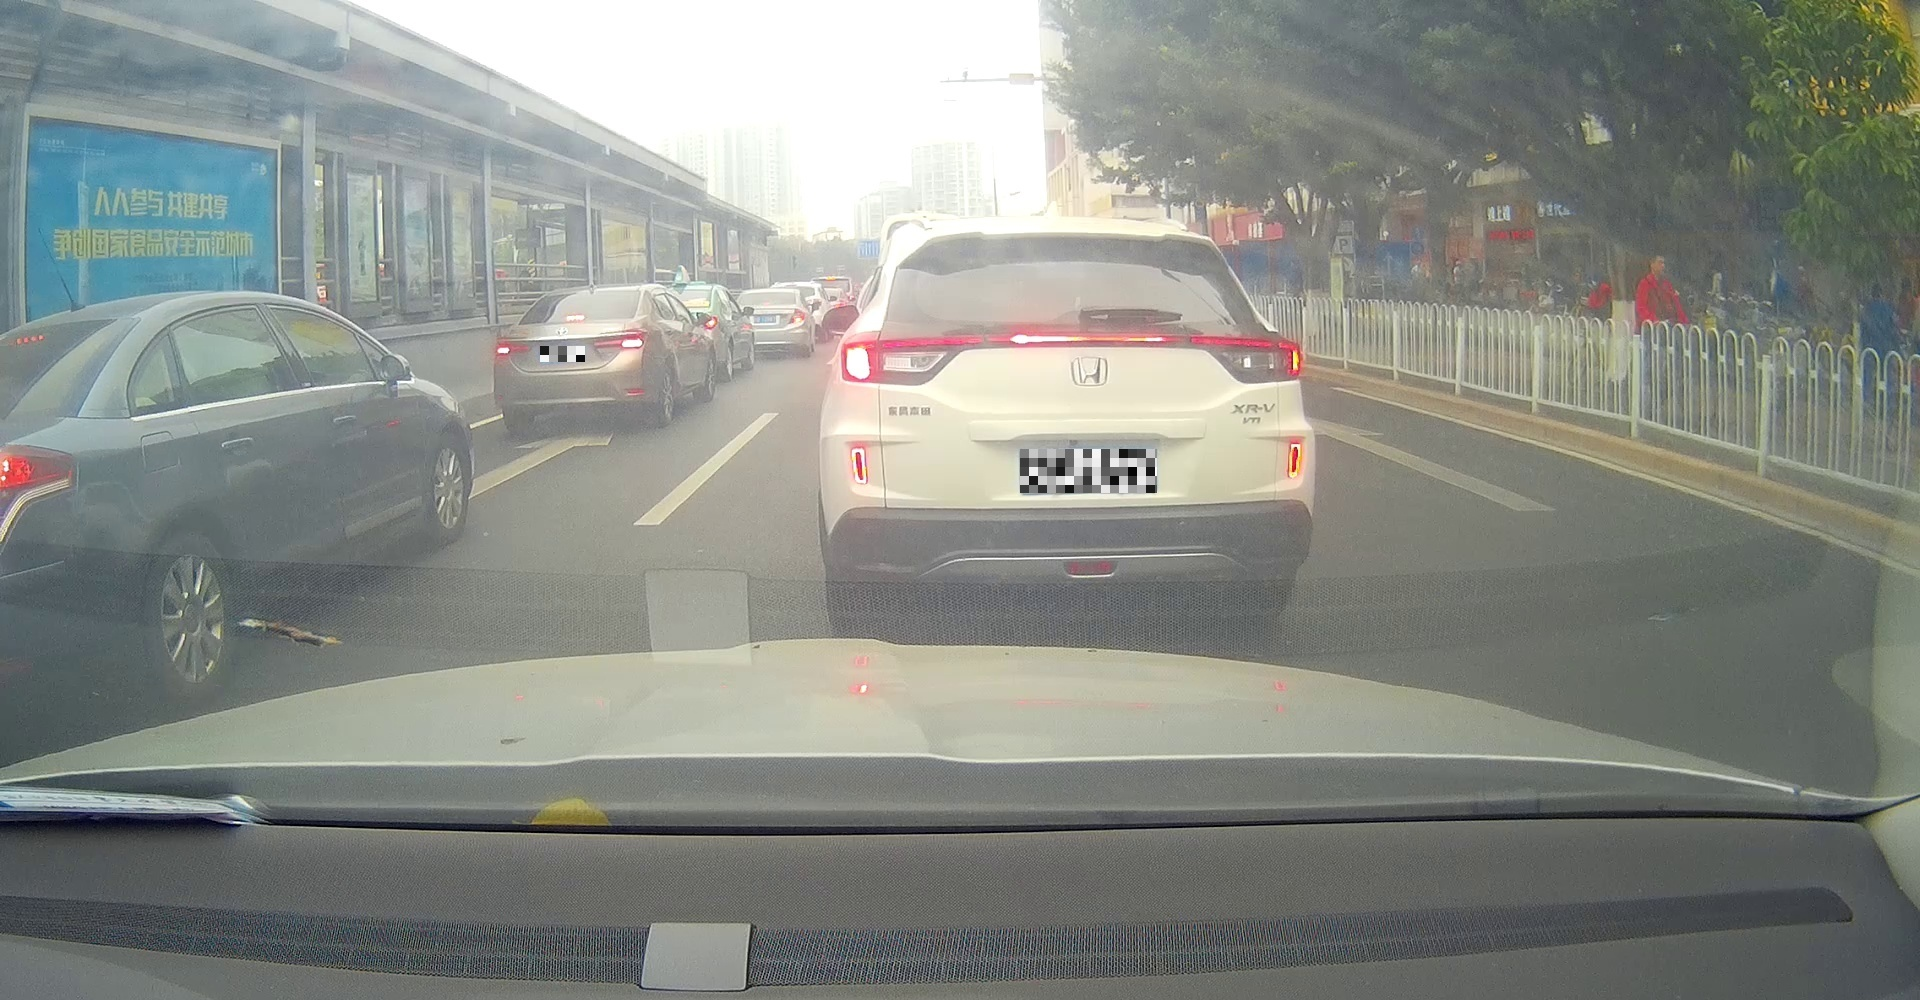L_light: (841, 338, 959, 385), (494, 343, 530, 357)
R_light: (1190, 336, 1302, 383), (594, 332, 643, 348)
T_light: (1013, 334, 1164, 344), (568, 315, 584, 322)
day-brake: (817, 220, 1314, 619), (493, 286, 646, 435)
plate_1: (540, 346, 585, 362)
plate_2: (1020, 449, 1157, 492)
